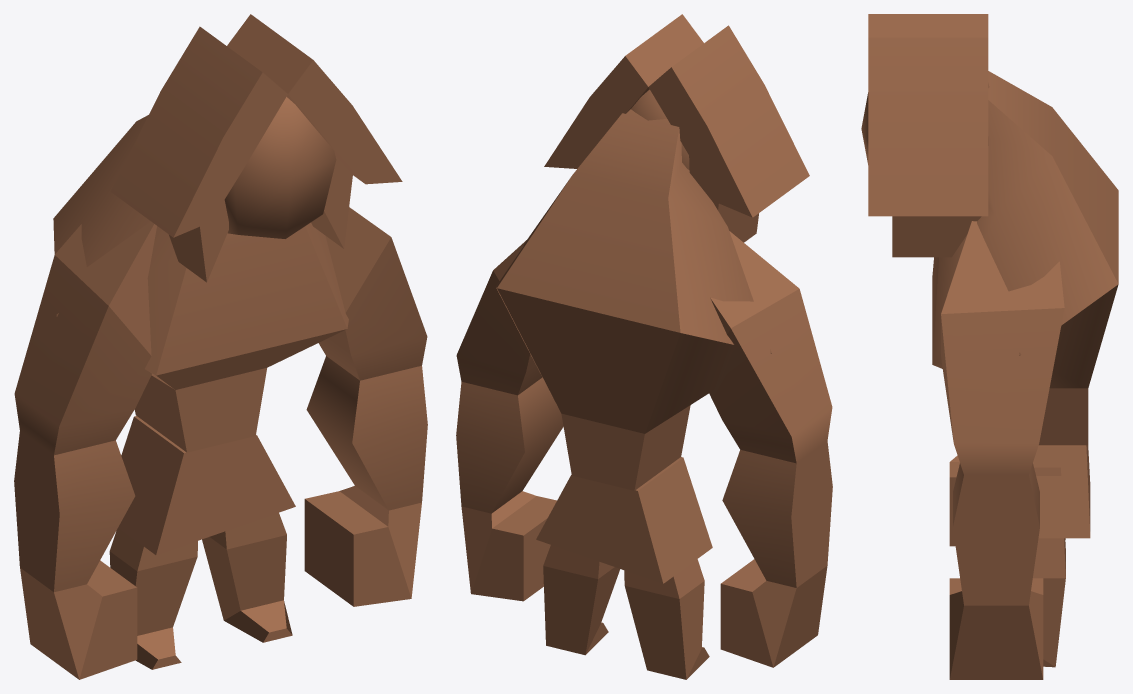
The model's file is SK_Barbarian.fbx.
The picture shows the model from 3 angles, left to right: view 1: azimuth 30°, elevation 25°; view 2: azimuth 150°, elevation 25°; view 3: azimuth 270°, elevation 25°; orthographic projection. The views are drawn at different scales.
Visible parts, largest first — view 1: Barbarian_GEO; view 2: Barbarian_GEO; view 3: Barbarian_GEO.
Boxes of the visible parts, box(x1,y1,x2,y2) form: Barbarian_GEO: box(14, 14, 427, 679); Barbarian_GEO: box(456, 14, 832, 679); Barbarian_GEO: box(861, 14, 1118, 679).
Bounding box in the file's own units: 184 × 302 × 116.
